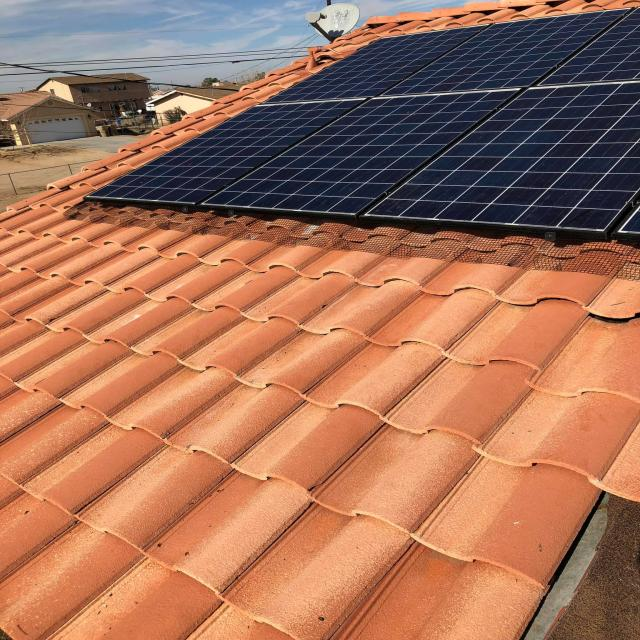clean-solar-panel: (87, 9, 640, 236)
